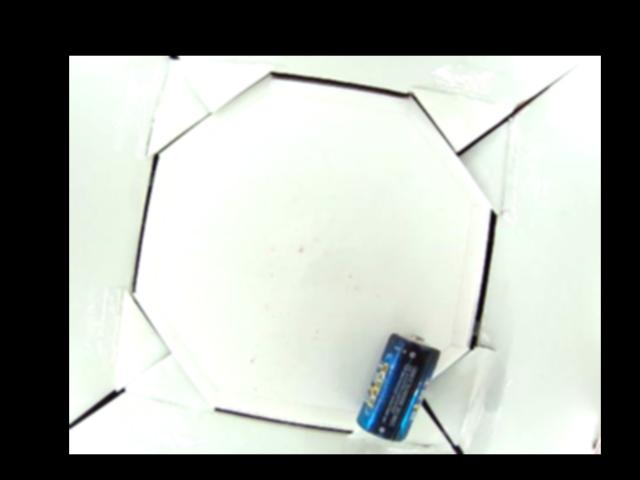Battery: (354, 333, 442, 441)
